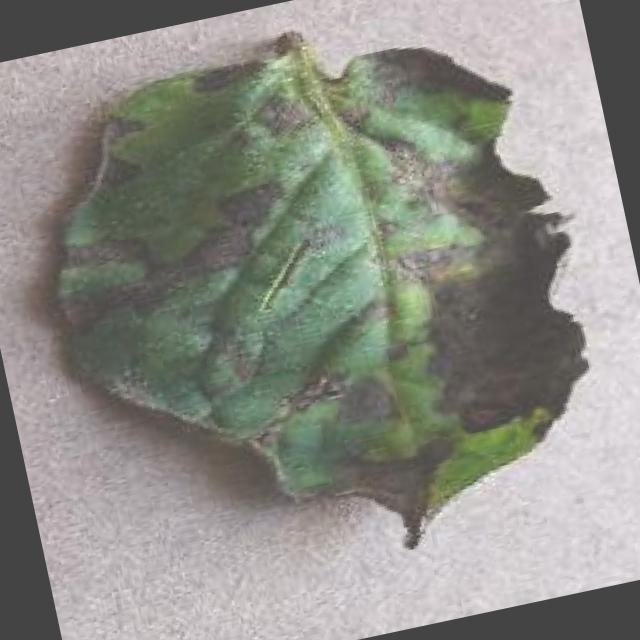leaf blight: (44, 36, 587, 549)
